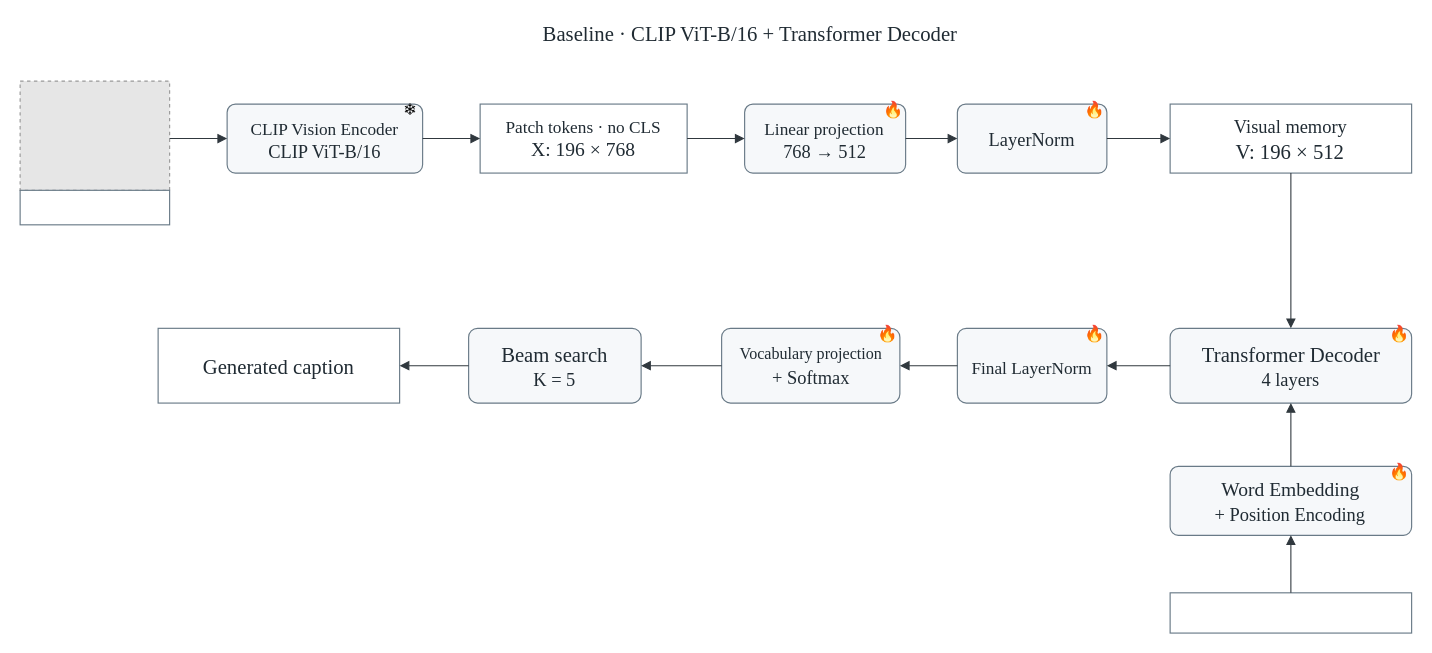
Image size: 1432x653. Some labels were removed from this diagram. Grey dashed boxes stand in for pictures. Each missing label, with the centre of its shape:
Caption prefix: (1290,612)
Input image I: (94,207)
